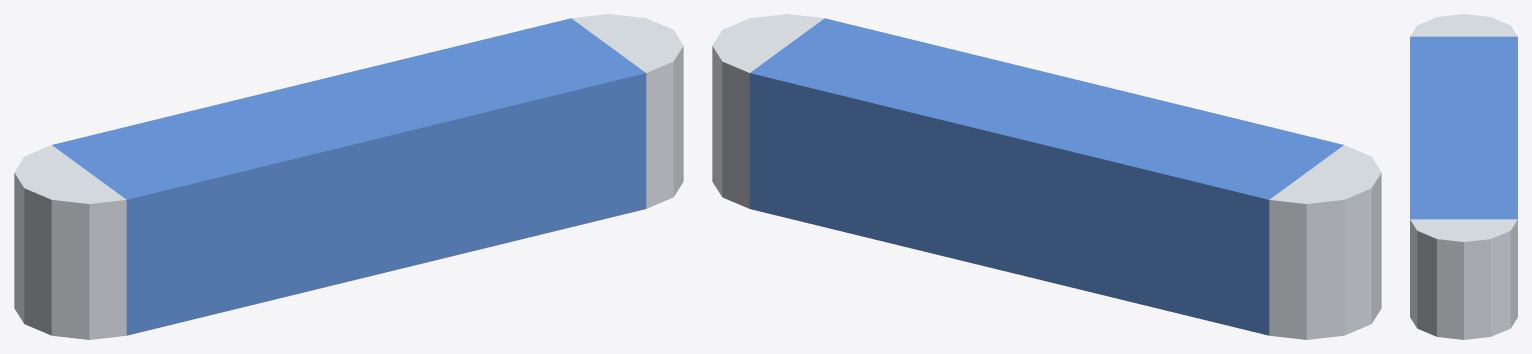
File: paddle.gltf
3 views of the same model, side by side, from view 1: azimuth 30°, elevation 25°; view 2: azimuth 150°, elevation 25°; view 3: azimuth 270°, elevation 25° (orthographic). The views are drawn at different scales.
Parts seen in each view (by area): view 1: paddle; view 2: paddle; view 3: paddle.
Boxes of the visible parts, x1,y1,x2,y2 form: paddle: [14, 14, 683, 339]; paddle: [712, 14, 1381, 339]; paddle: [1410, 14, 1517, 339].
Bounding box in the file's own units: 2 × 0.4 × 0.4.
